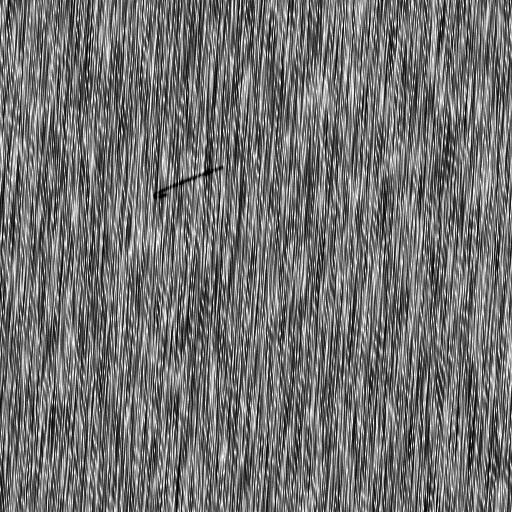DefectTypeC: (155, 162, 224, 199)
